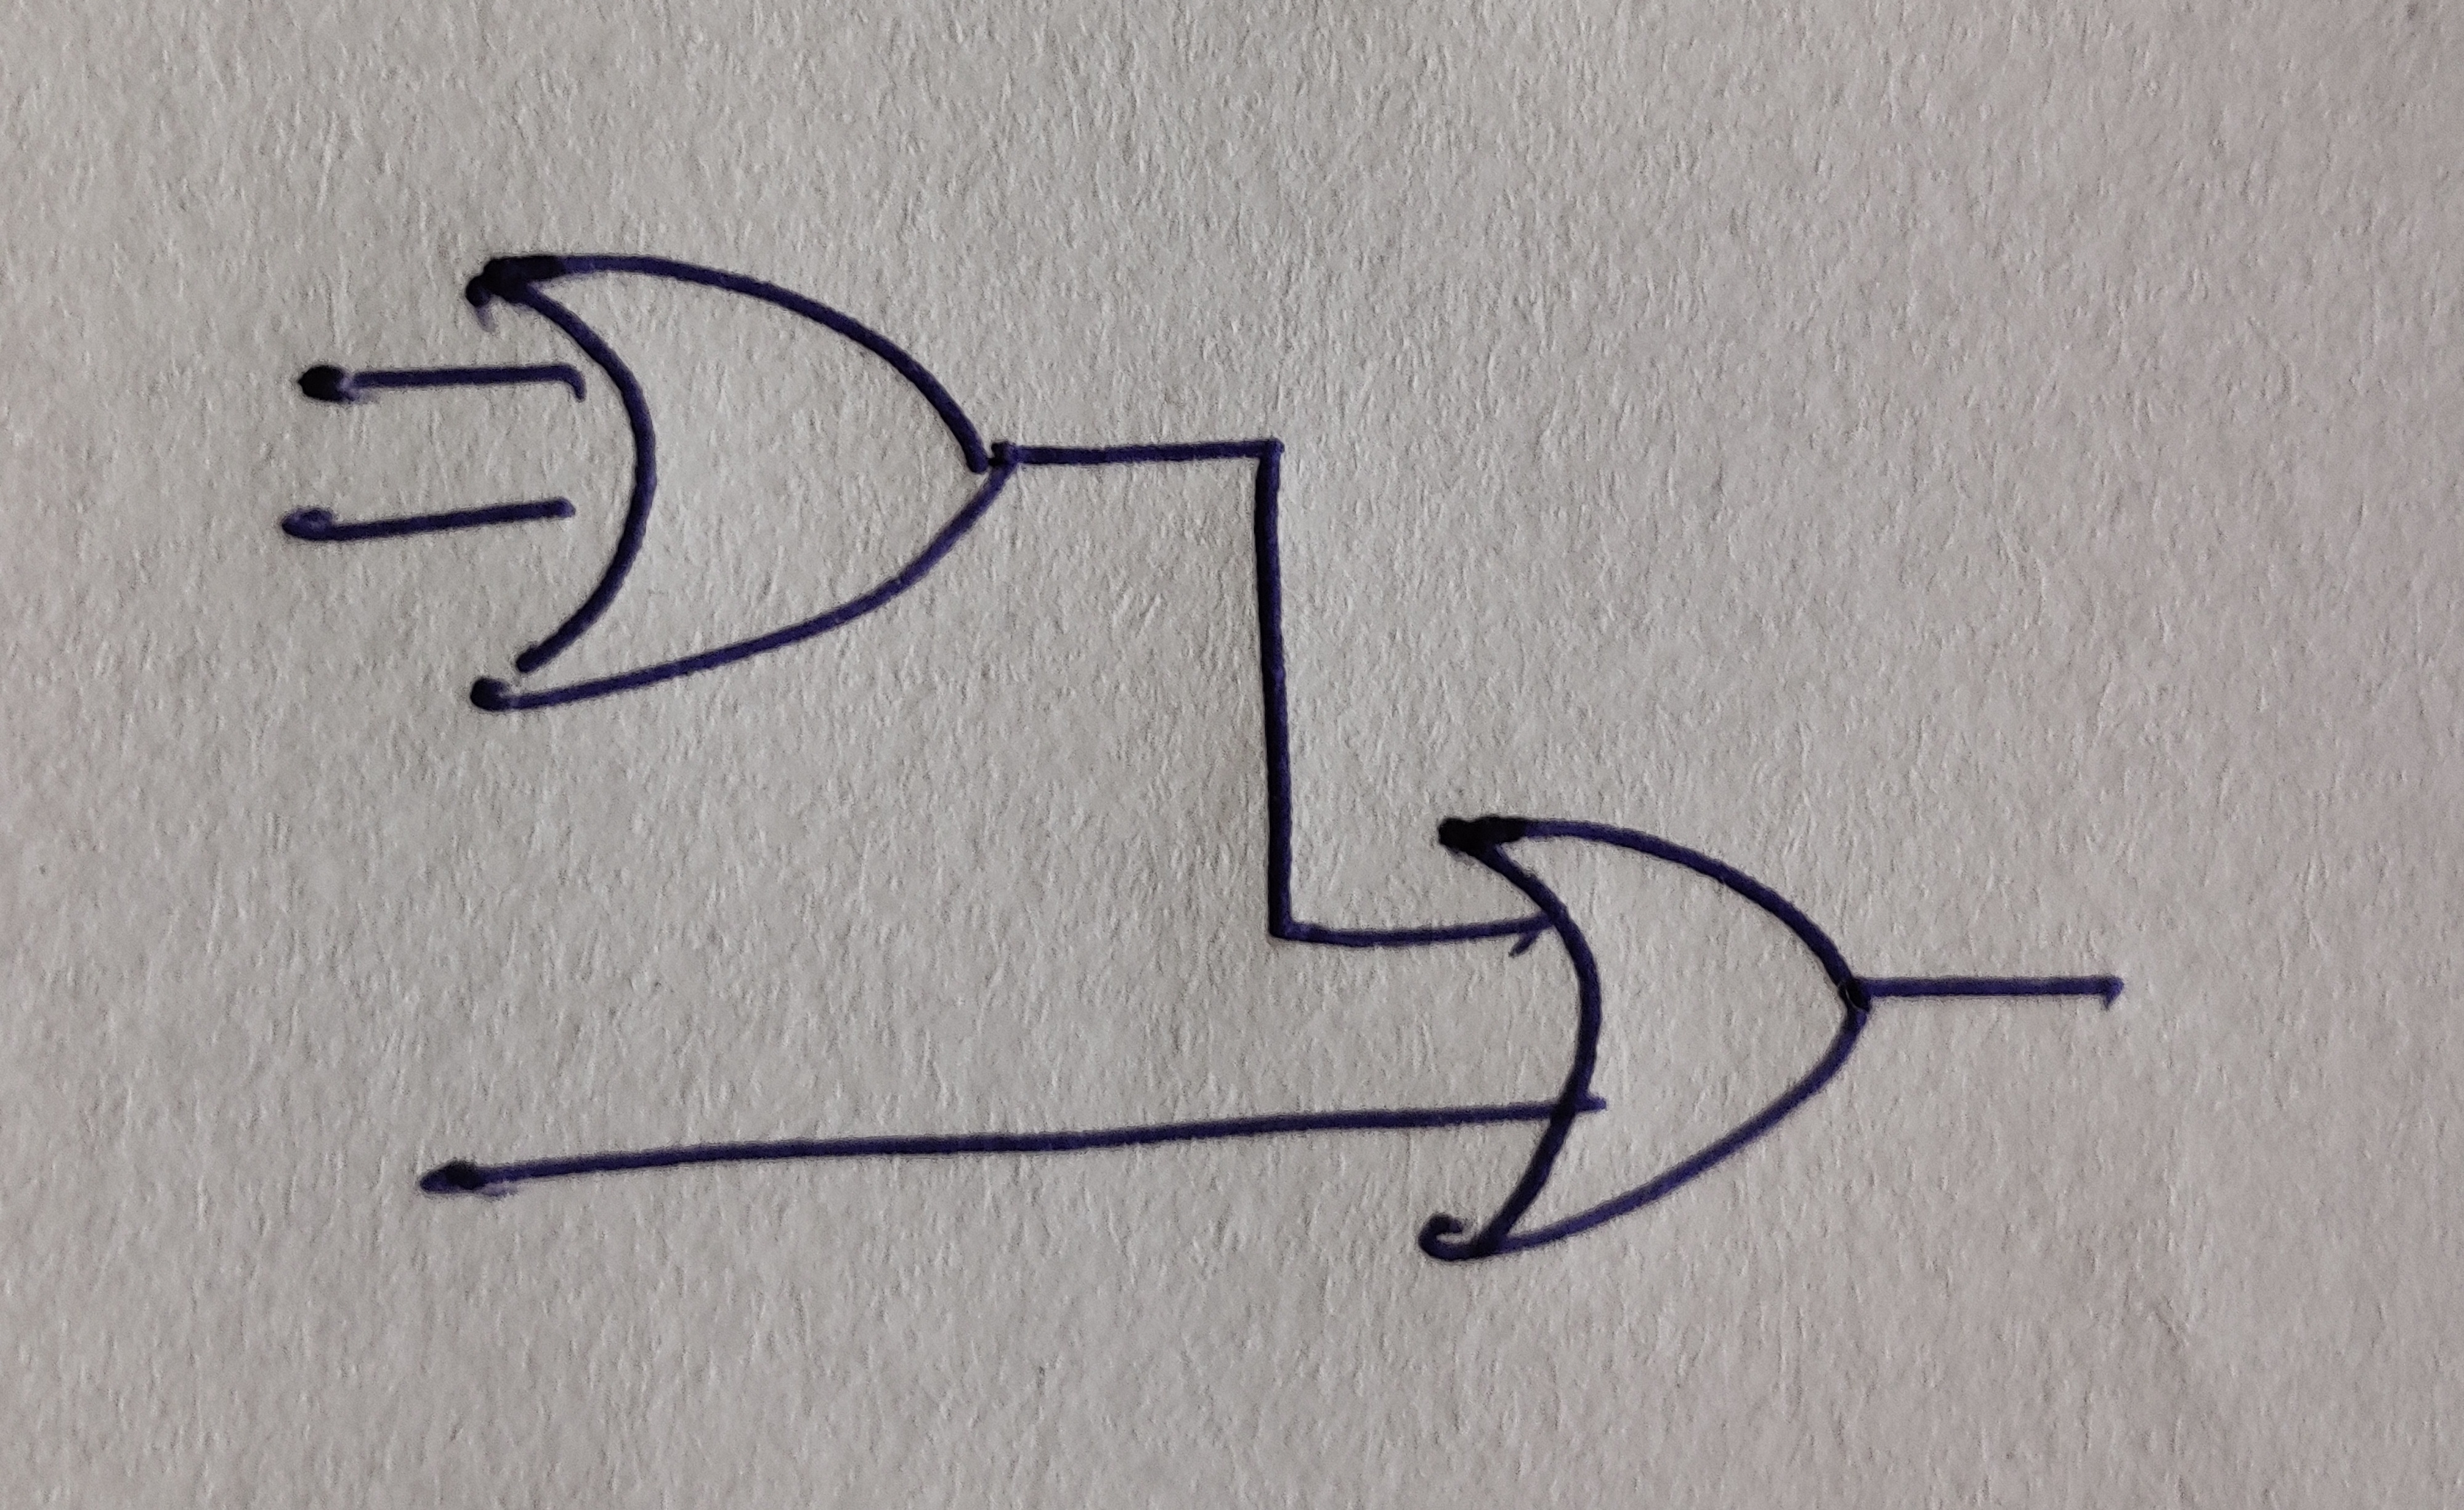or: (465, 255, 1017, 713), (1419, 817, 1878, 1264)
